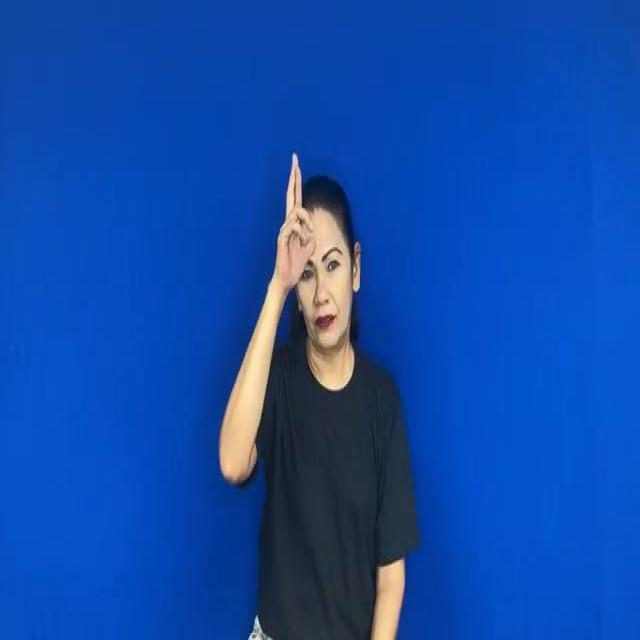chicken: (274, 141, 314, 282)
